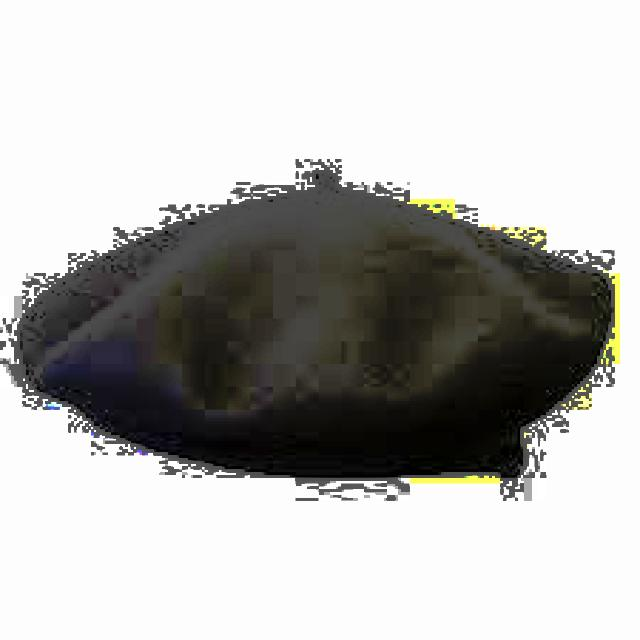TOPI: (14, 154, 614, 486)
